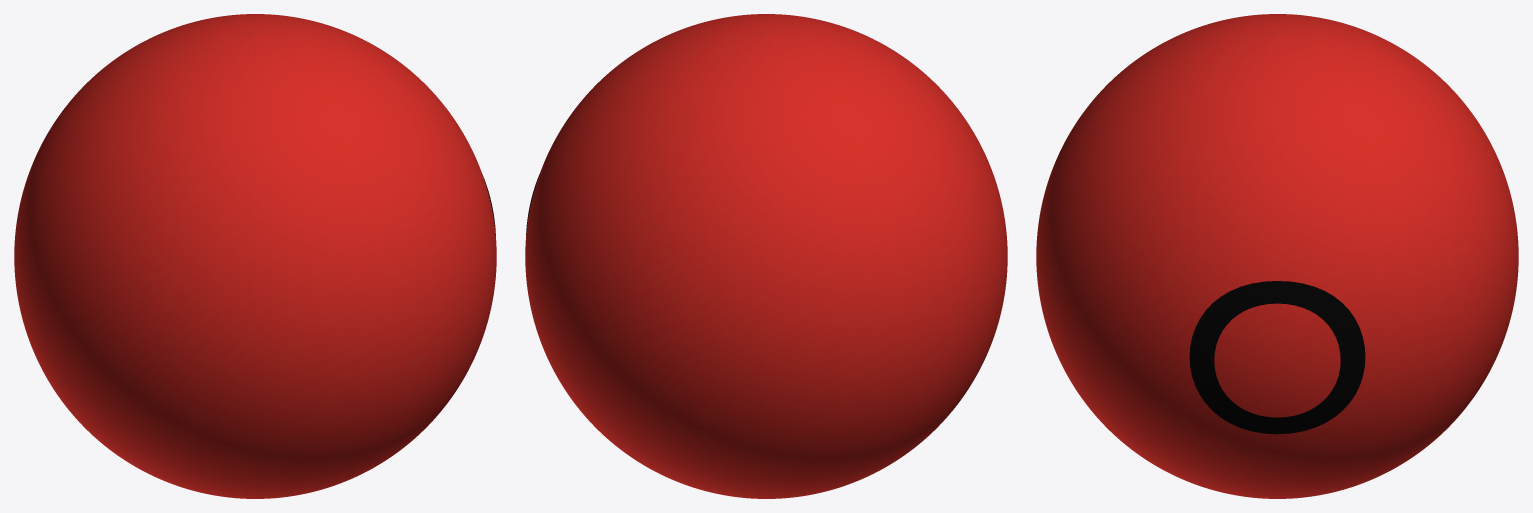
The model's file is Oxygen (O).fbx.
3 renders of one model, left to right at view 1: azimuth 30°, elevation 25°; view 2: azimuth 150°, elevation 25°; view 3: azimuth 270°, elevation 25°, orthographic.
Parts seen in each view (by area): view 1: Sphere.001; view 2: Sphere.001; view 3: Sphere.001, Text.001.
Boxes of the visible parts, x1=… form: Sphere.001: x1=14, y1=14, x2=496, y2=498; Sphere.001: x1=525, y1=14, x2=1007, y2=498; Sphere.001: x1=1036, y1=14, x2=1518, y2=498; Text.001: x1=1189, y1=281, x2=1365, y2=434.
Bounding box in the file's own units: 197 × 200 × 197.
